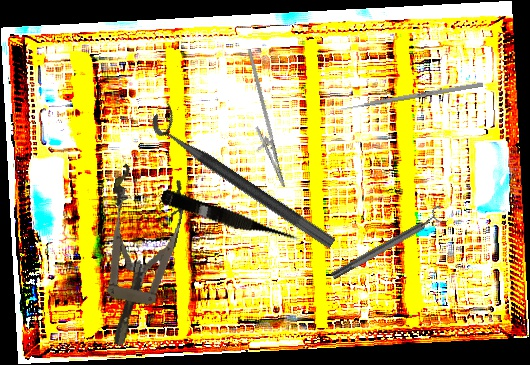Fixation Ring: (146, 100, 347, 251), (326, 204, 450, 285)
Micro Scissor: (158, 188, 302, 251)
Needle Holder: (221, 48, 302, 192)
Pusher: (329, 81, 484, 114)
Speculum: (81, 162, 191, 353)
